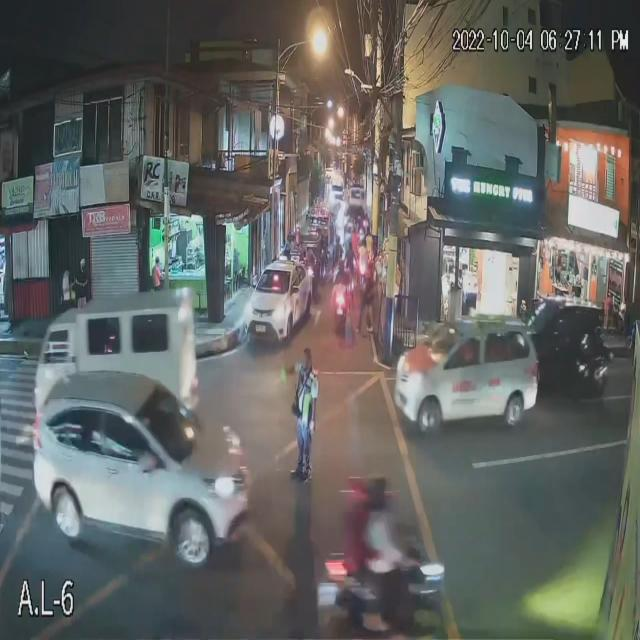Full-Faced: (363, 475, 386, 515), (345, 472, 367, 510), (336, 253, 347, 278)
